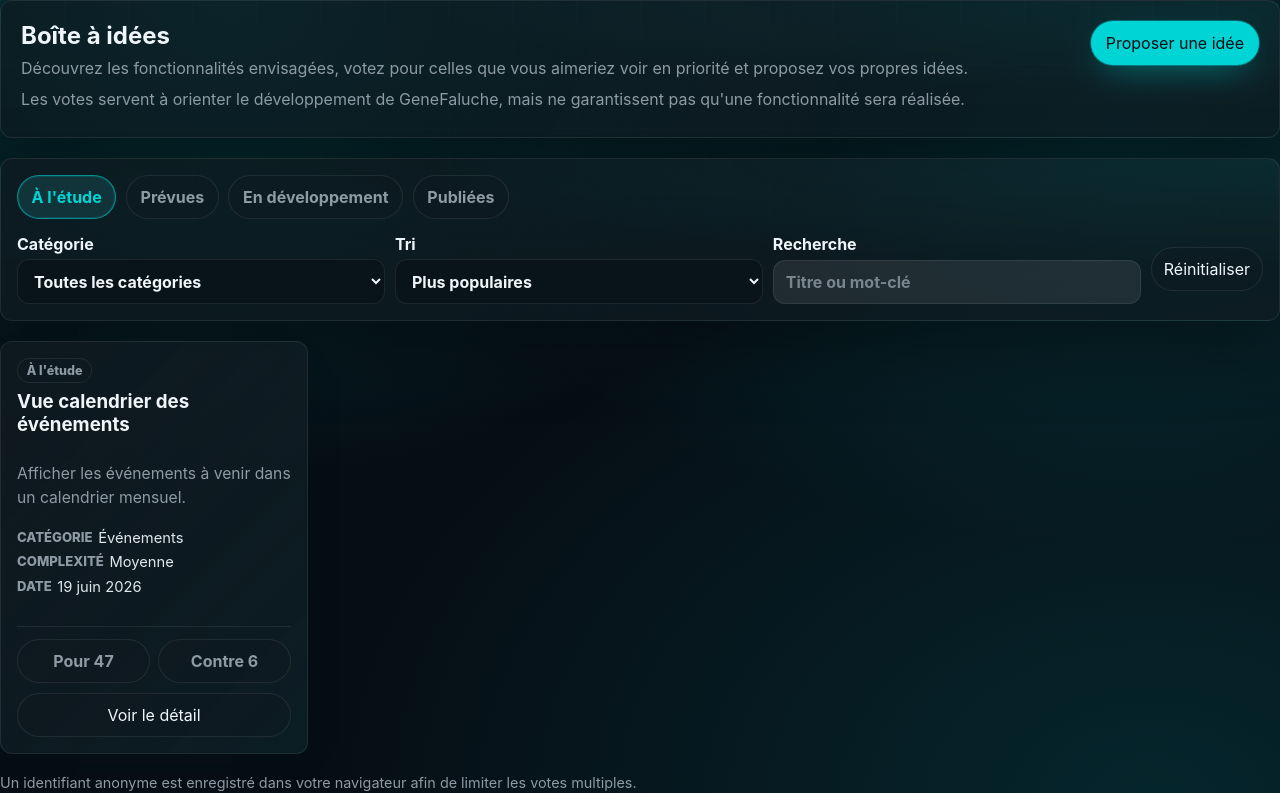
Test: IdeaBoxView › opens a proposal detail and records a positive vote
Click the button "Voir le détail" at x=154, y=715, box x1=17 y1=693 x2=291 y2=737
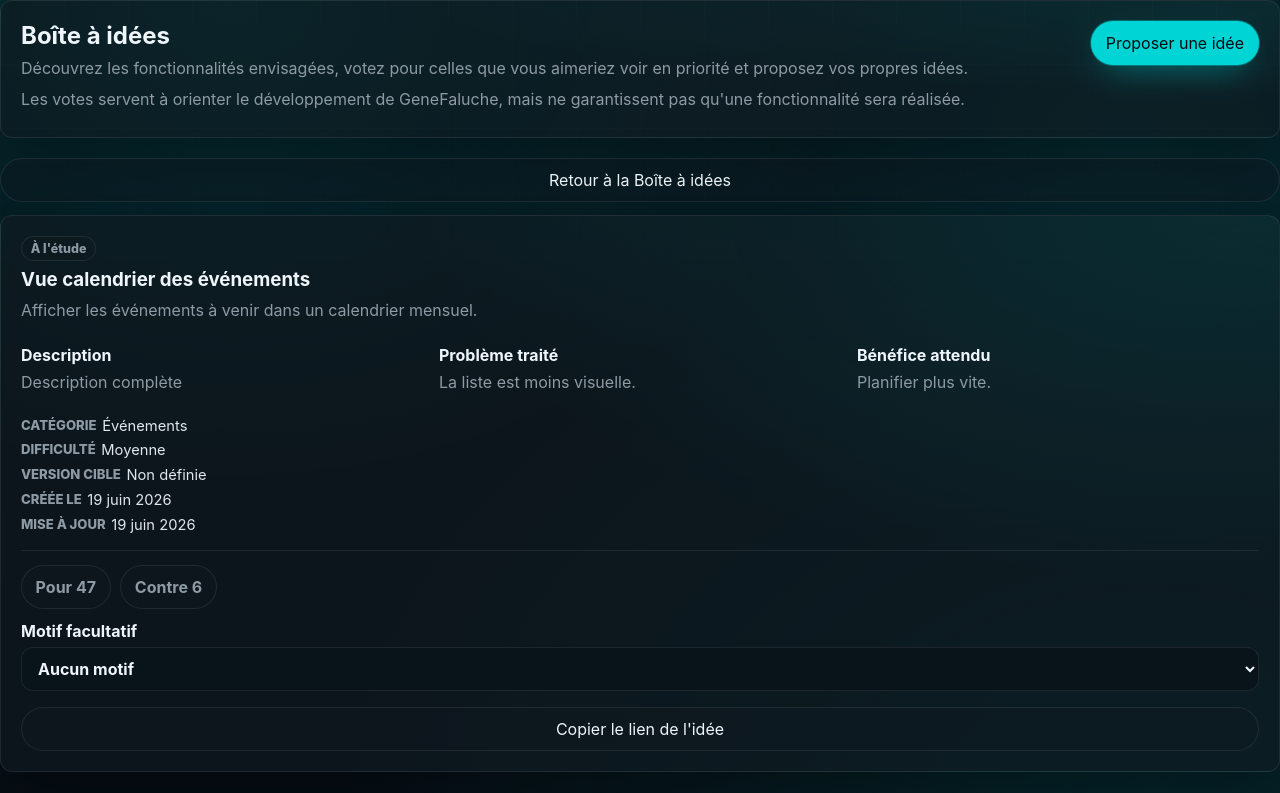
Click the button "Pour 47" at x=66, y=587, box x1=21 y1=565 x2=111 y2=609
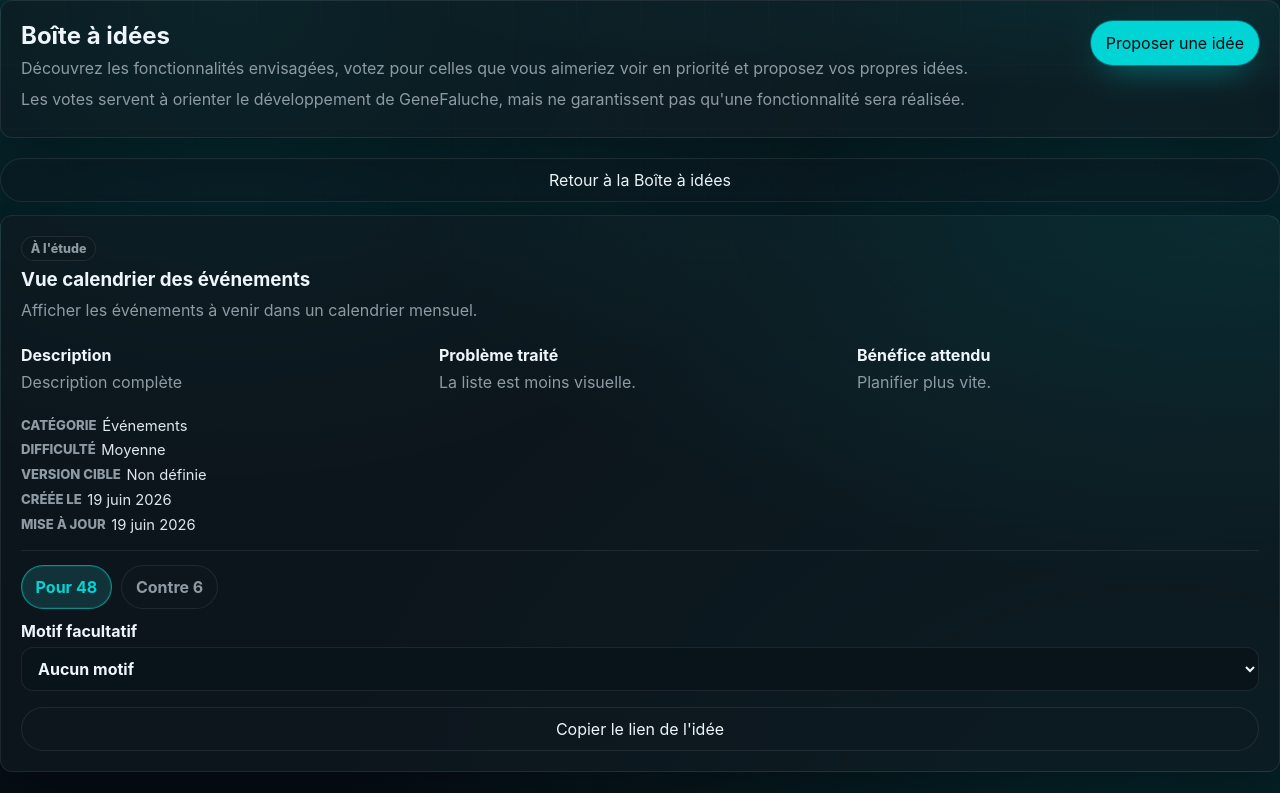
Now the text "Pour 48" is shown, box x1=21 y1=565 x2=112 y2=609
